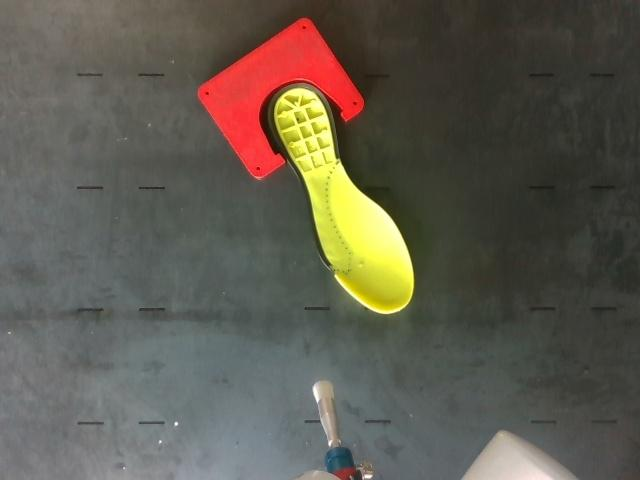shoes: (268, 83, 414, 314)
